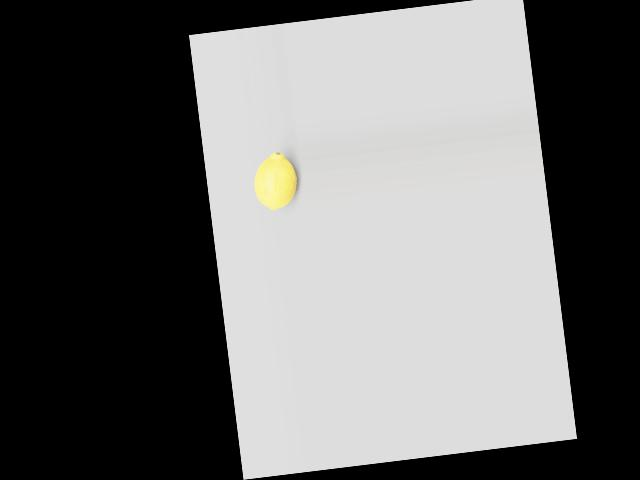lemon: (247, 150, 299, 213)
